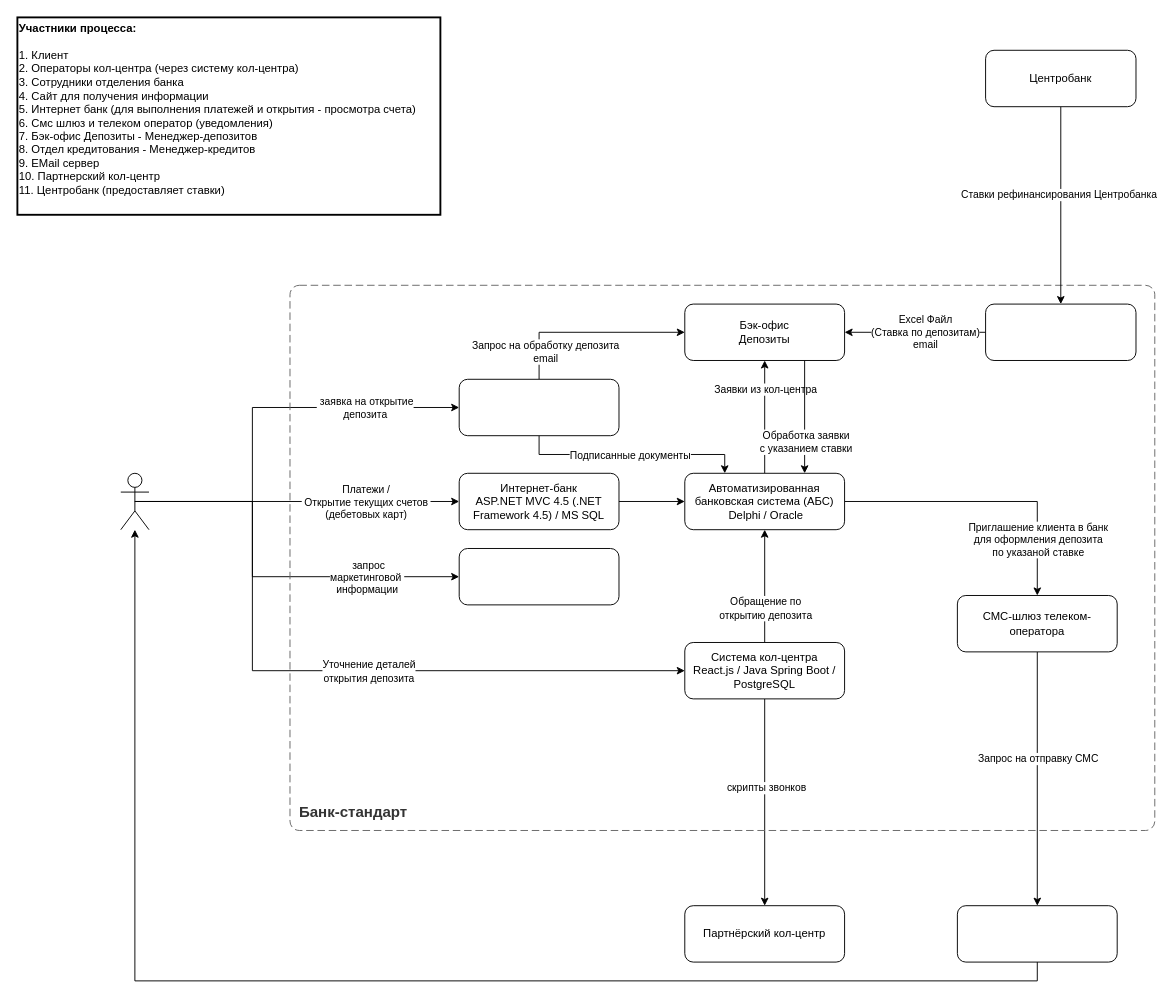
Some shapes in this 1172 by 1005 pixel diagram are drawn without their labels. Here are the shapes that lost their labels. From the top down, the centre of each, then its label:
pixel 1060 331: Отдел кредитования
pixel 538 407: Отделение банка
pixel 134 501: Клиент
pixel 538 576: Сайт PHP и React.js.
pixel 1036 933: Телеком-оператор
